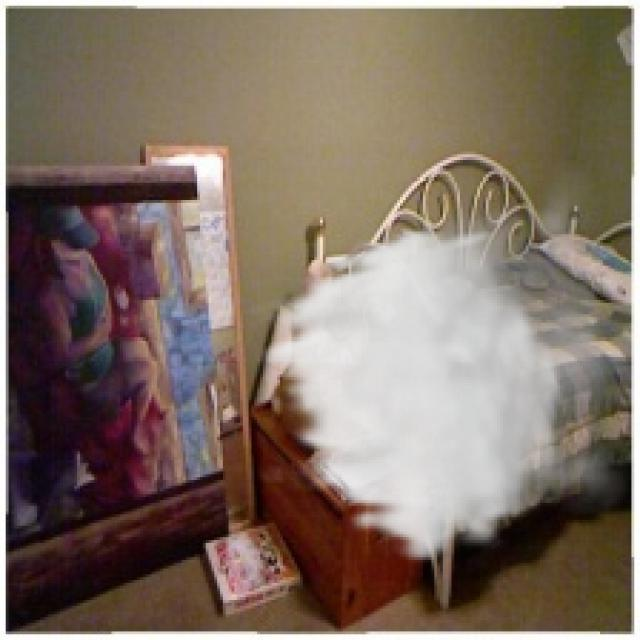smoke: (252, 154, 637, 566)
